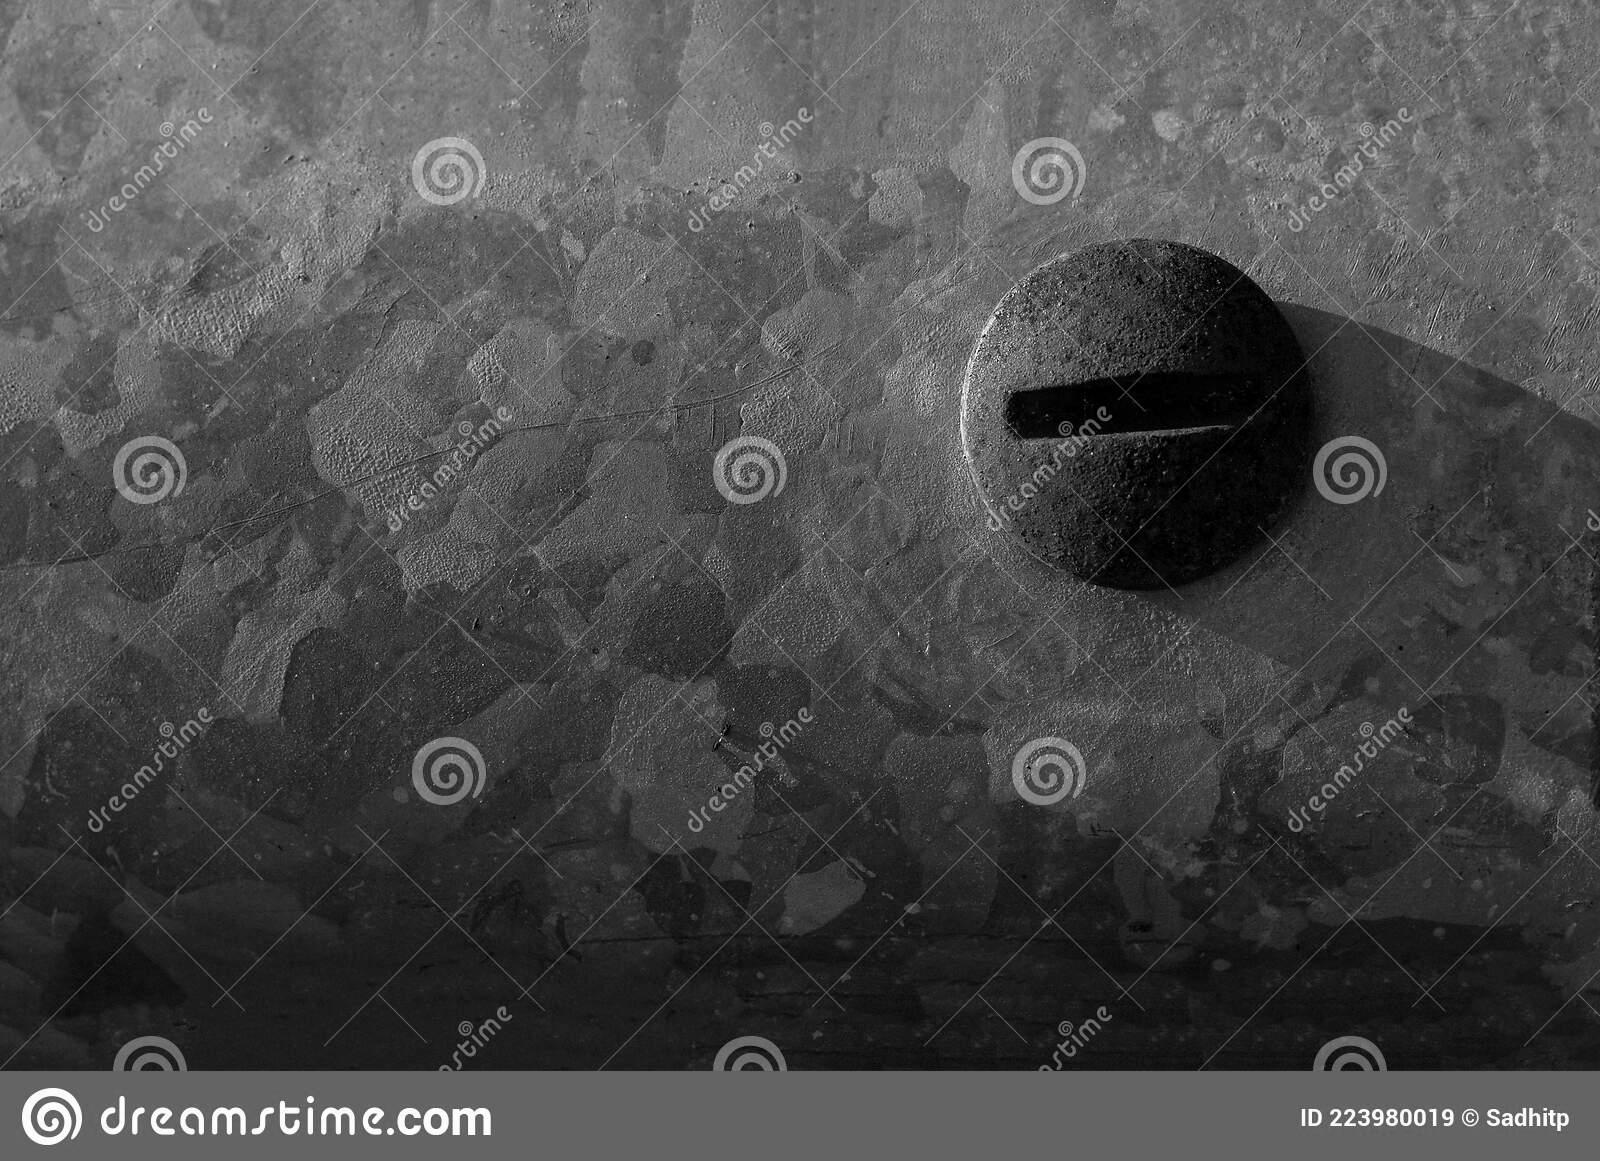slotted: (960, 231, 1323, 605)
